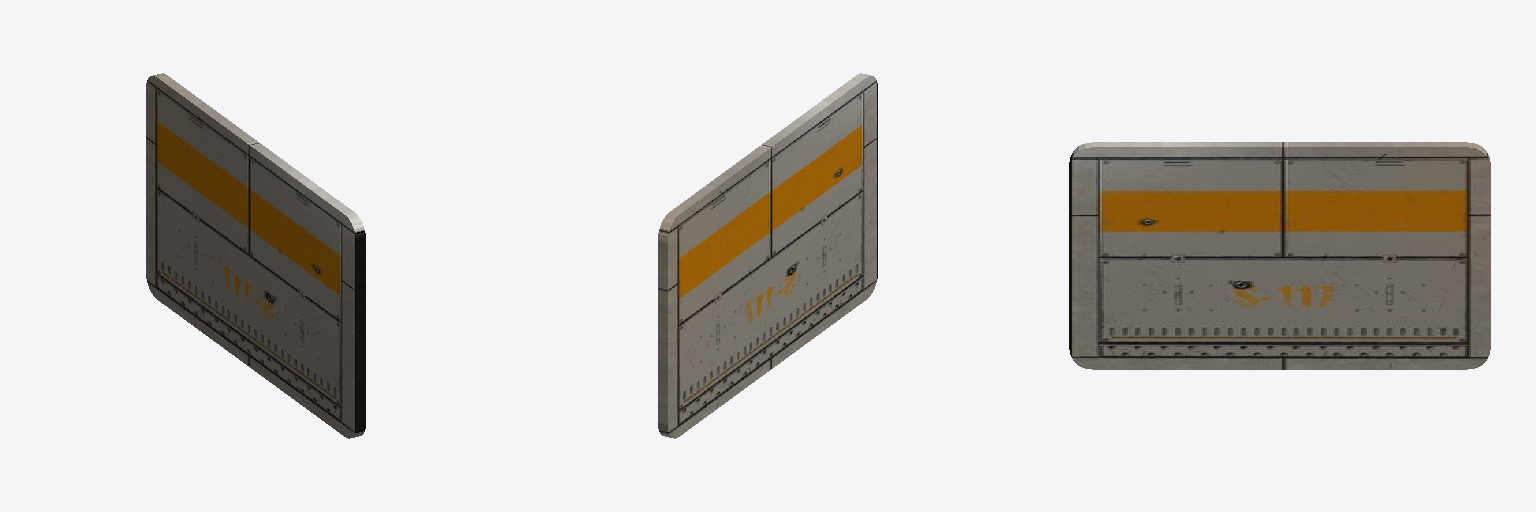
3 renders of one model, left to right at view 1: azimuth 30°, elevation 25°; view 2: azimuth 150°, elevation 25°; view 3: azimuth 270°, elevation 25°, orthographic.
Visible parts, largest first — view 1: pCube1; view 2: pCube1; view 3: pCube1.
Part boxes in pixels (bbox=[...]): pCube1: bbox=[146, 73, 365, 438]; pCube1: bbox=[658, 73, 877, 438]; pCube1: bbox=[1069, 142, 1490, 369].
Bounding box in the file's own units: 0.1227 × 2.6 × 4.47.
1 materials, 1 textured.